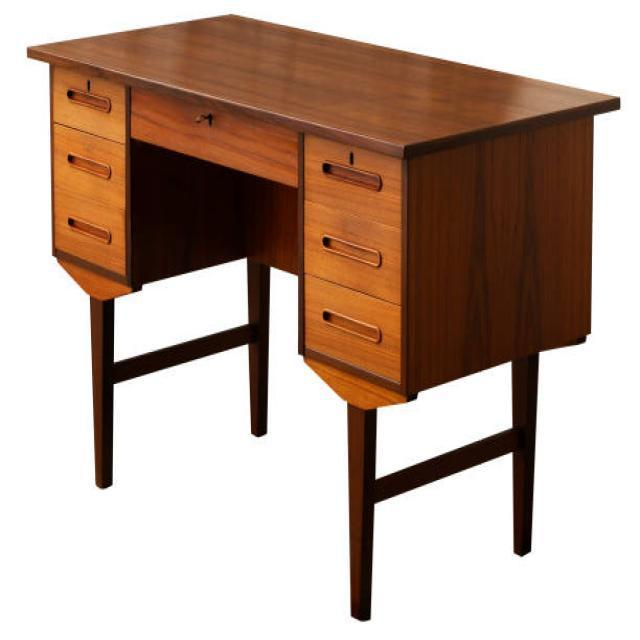table: (25, 11, 621, 621)
